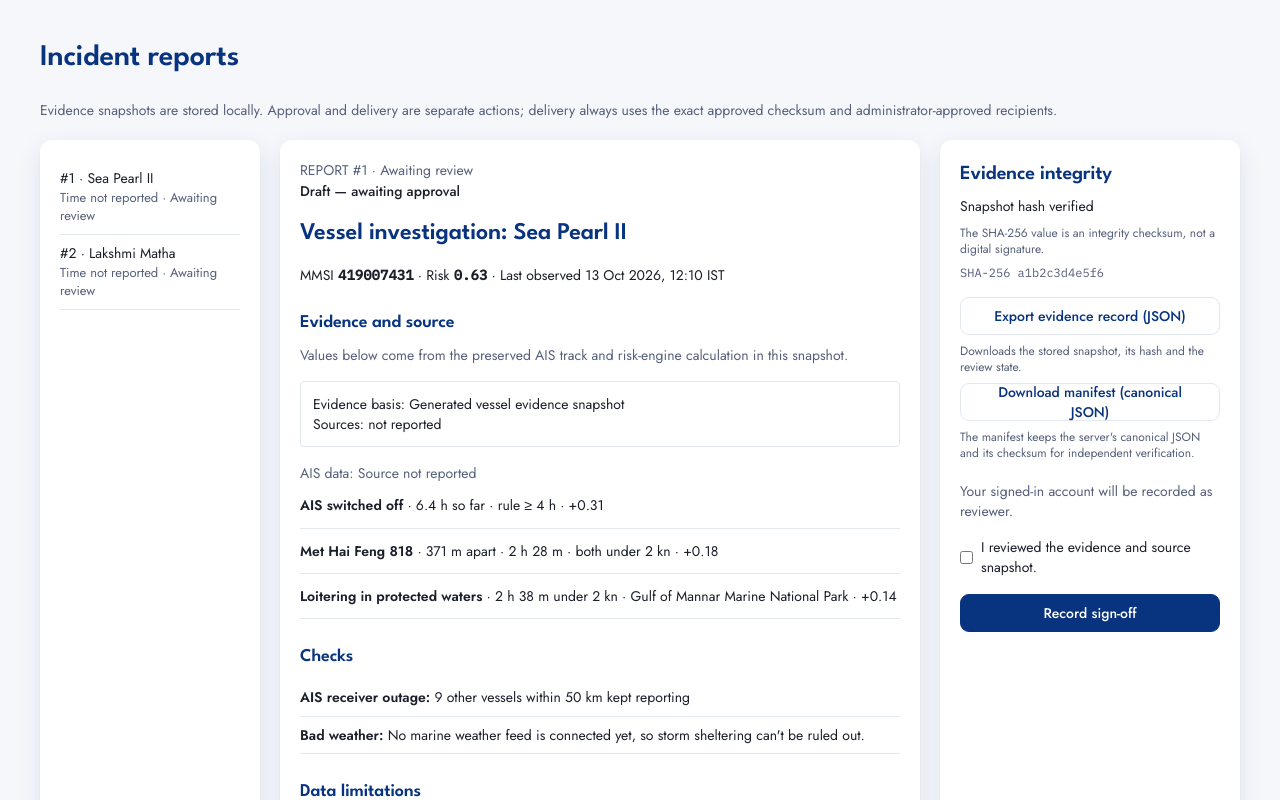
Test: Cases / EvidencePage & ReportsPage › keeps message and tick when sign-off is rejected and officer stays on that report
Click the checkbox labelled "I reviewed the evidence and source snapshot.".
click(966, 558)  # box [960,537,973,578]
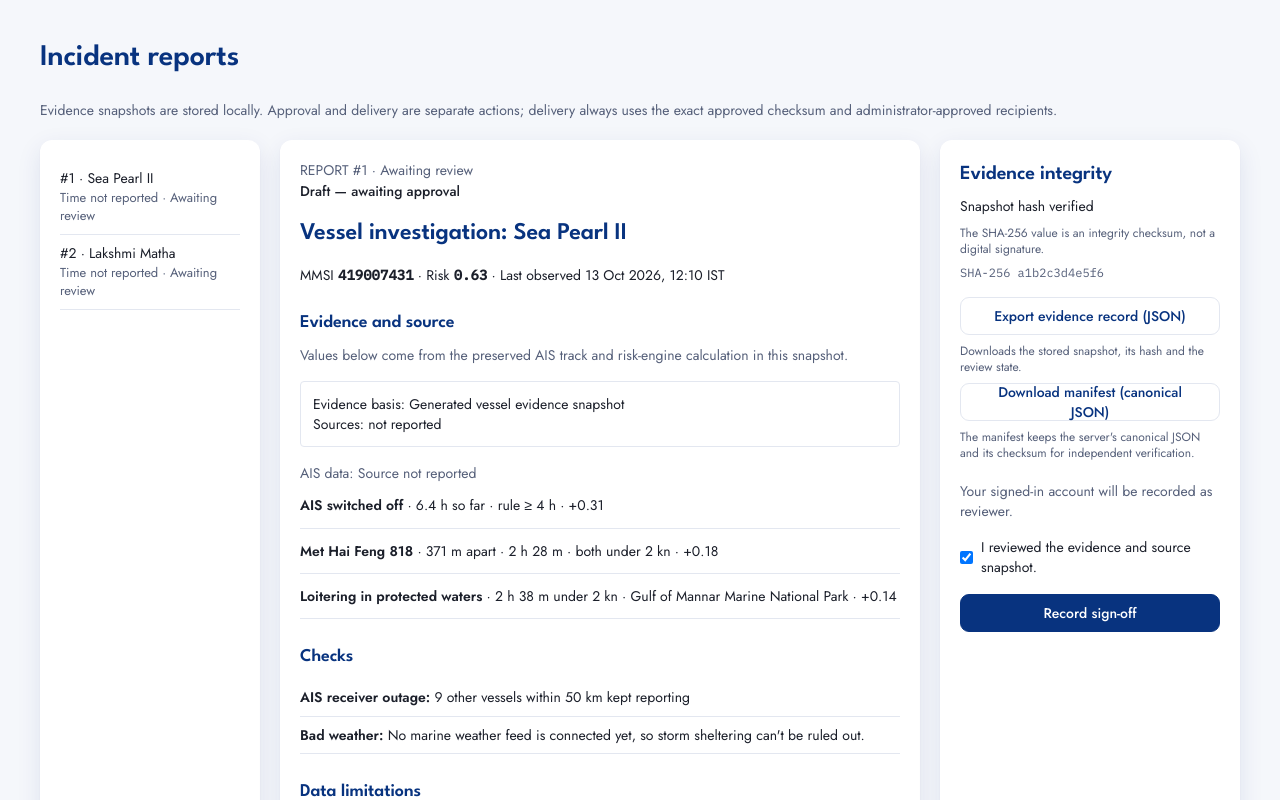
Click the button "Record sign-off".
click(1090, 613)  # box [960,594,1220,632]
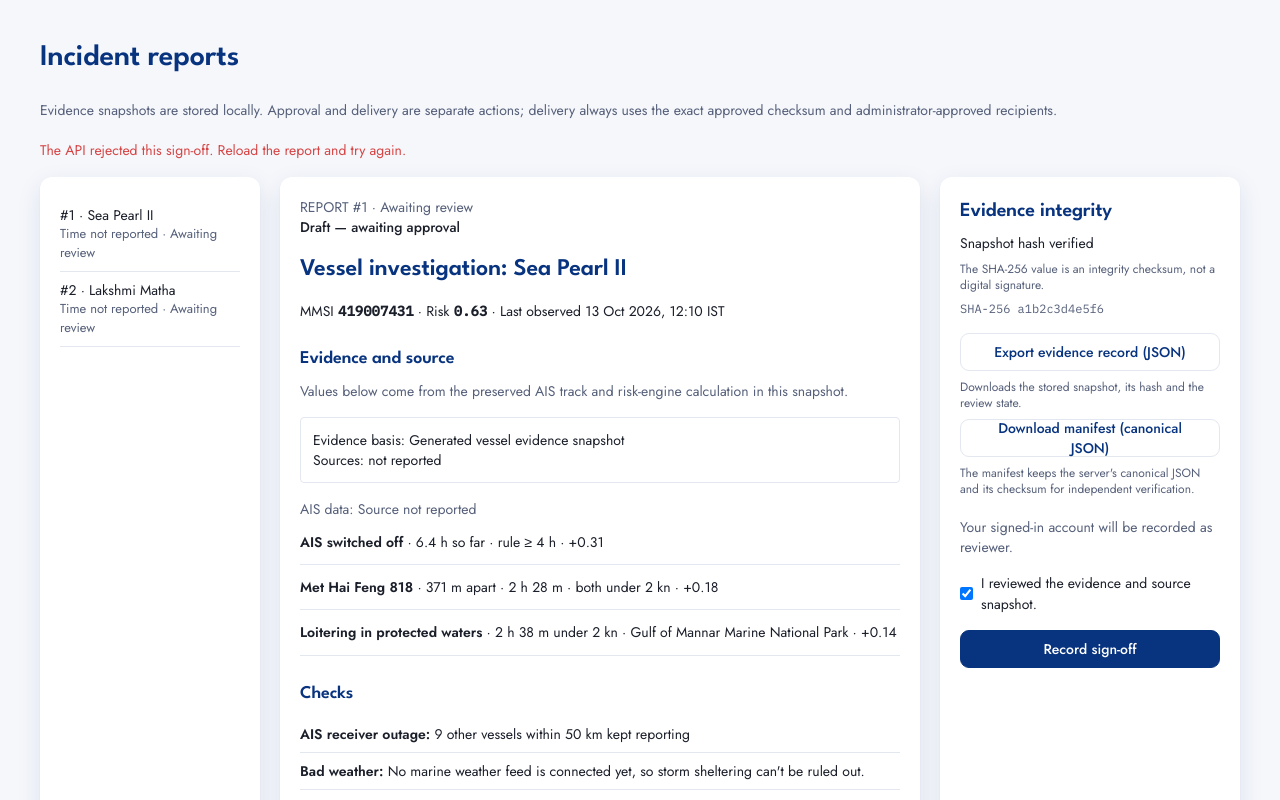
Now the checkbox labelled "I reviewed the evidence and source snapshot." is checked, box [960,574,973,614]
Now the message reads "The API rejected this sign-off. Reload the report and try again.", box [40,140,406,160]
